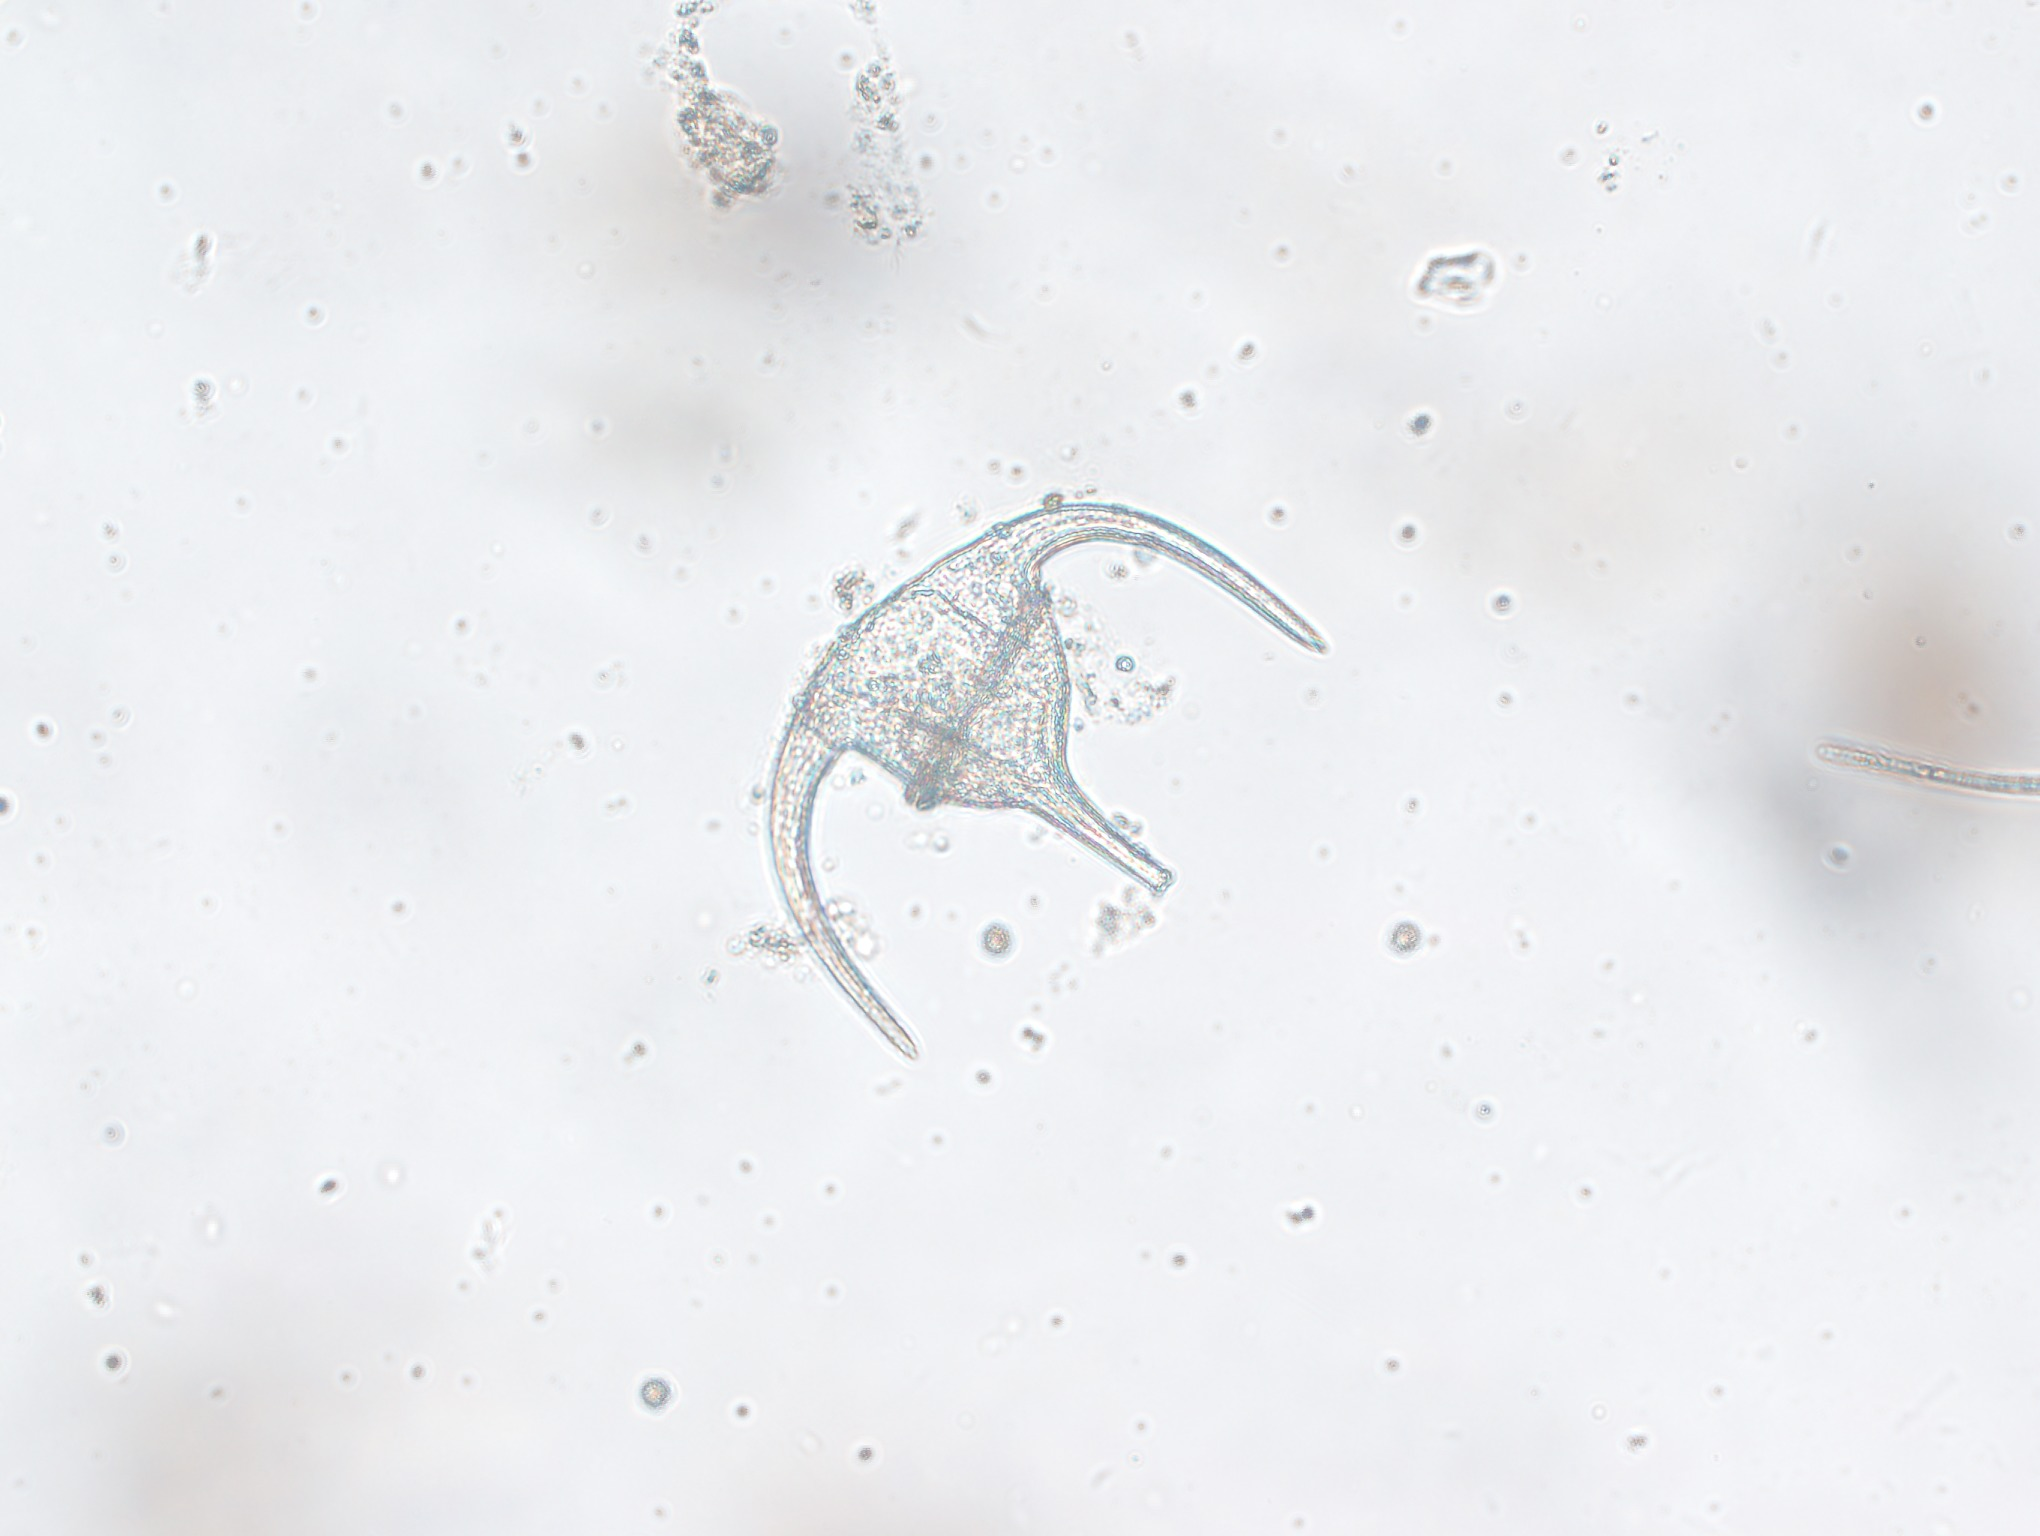ceratium tripos: (727, 468, 1335, 1079)
